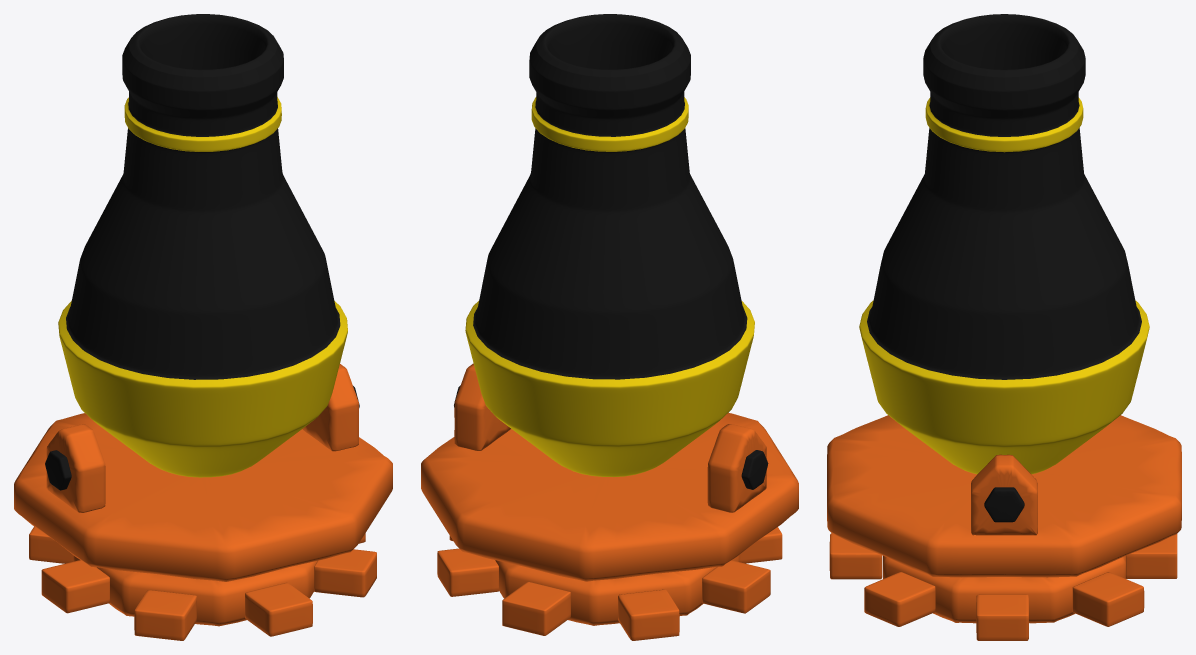
File: mortar (2).fbx
3 views of the same model, side by side, from view 1: azimuth 30°, elevation 25°; view 2: azimuth 150°, elevation 25°; view 3: azimuth 270°, elevation 25° (orthographic).
Parts seen in each view (by area): view 1: Cylinder, Cylinder.010, Cylinder.008; view 2: Cylinder, Cylinder.010, Cylinder.008; view 3: Cylinder, Cylinder.010, Cylinder.008.
Boxes of the visible parts, bbox=[...] form: Cylinder: bbox=[45, 14, 359, 490]; Cylinder.010: bbox=[14, 364, 392, 581]; Cylinder.008: bbox=[29, 526, 376, 640]; Cylinder: bbox=[454, 14, 768, 489]; Cylinder.010: bbox=[421, 363, 798, 581]; Cylinder.008: bbox=[437, 527, 782, 640]; Cylinder: bbox=[859, 14, 1149, 522]; Cylinder.010: bbox=[827, 415, 1181, 577]; Cylinder.008: bbox=[829, 533, 1177, 640].
Size of the model in its own units: 0.2698 by 0.4461 by 0.2698.
